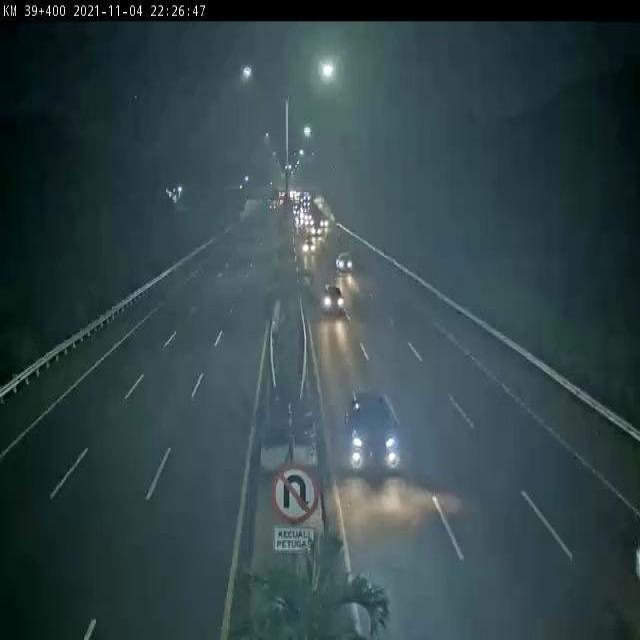car: (346, 396, 402, 472), (321, 283, 345, 315), (335, 249, 356, 276)
